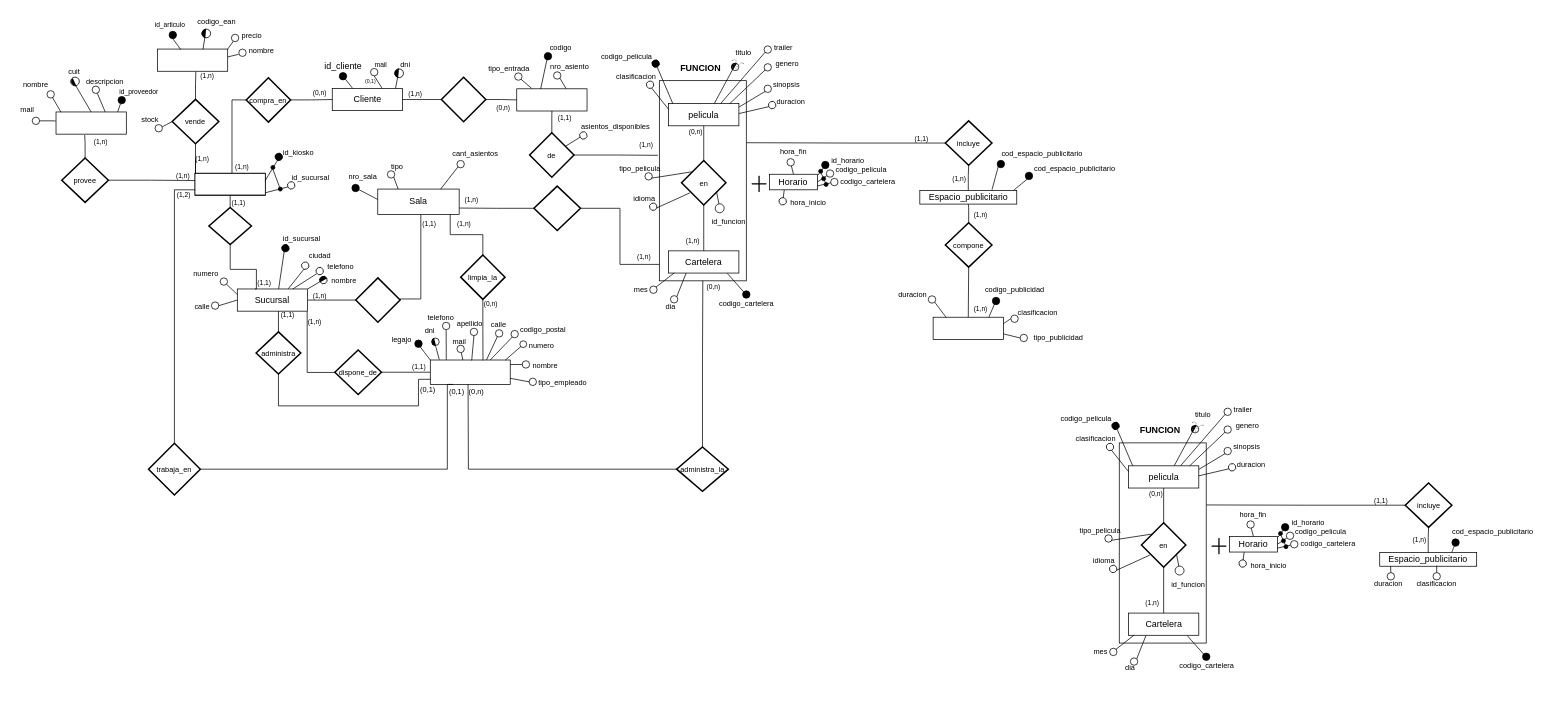
Some shapes in this 1547 by 707 pixel diagram are drawn without their labels. The centre of each missing label's shape, as x and y in pixels:
"Articulo" belongs at point (192, 59).
"compra_la" belongs at point (463, 99).
"Empleado" belongs at point (470, 371).
"Entrada" belongs at point (551, 99).
"Kiosco" belongs at point (229, 184).
"posee" belongs at point (377, 300).
"Proveedor" belongs at point (90, 122).
"proyecta" belongs at point (557, 208).
"Publicidad" belongs at point (967, 327).
"Tiene" belongs at point (230, 225).
